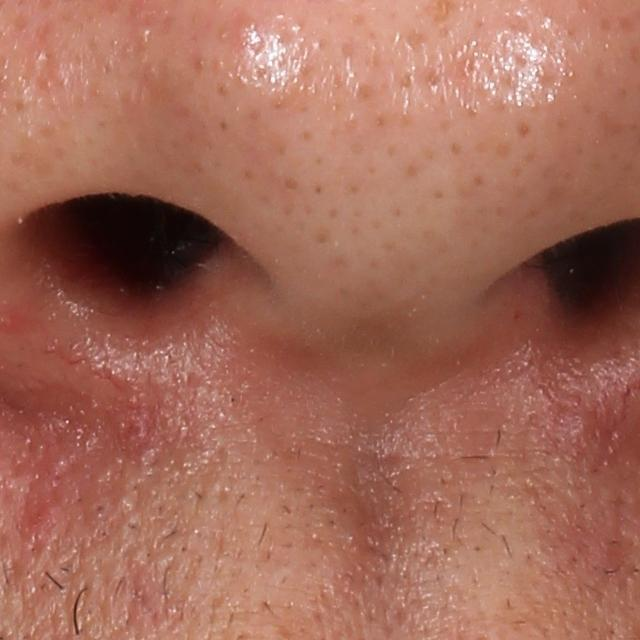comedo: (85, 499, 115, 520)
